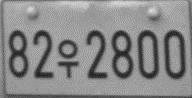0: (163, 29, 185, 79), (137, 29, 159, 78)
2: (85, 28, 108, 79), (32, 29, 54, 78)
8: (110, 30, 134, 79), (8, 29, 28, 77)
우: (56, 39, 80, 78)
